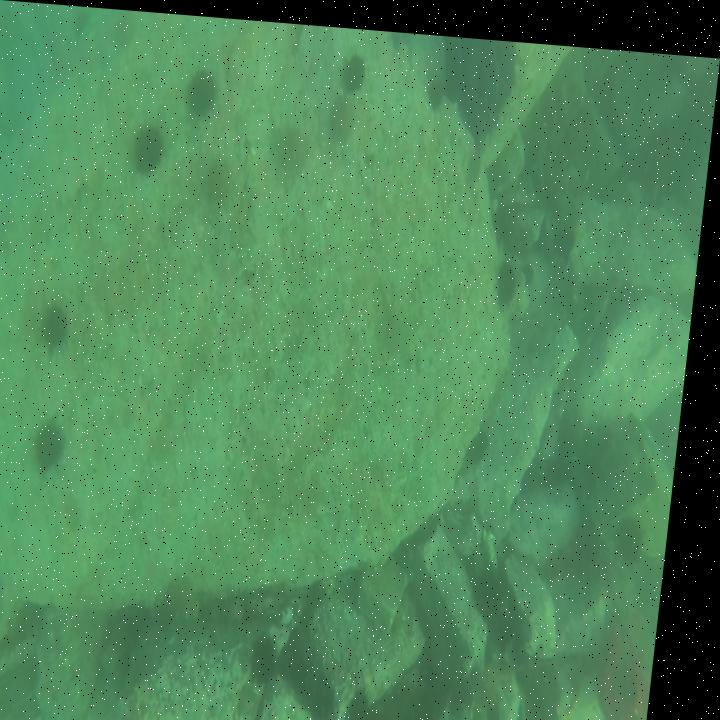echinus: (134, 116, 169, 173), (45, 298, 80, 355), (272, 111, 308, 166), (486, 554, 521, 606), (45, 420, 79, 471), (187, 65, 220, 113), (627, 501, 658, 549), (325, 669, 353, 720), (264, 632, 293, 680), (500, 245, 526, 298), (209, 150, 236, 201), (330, 86, 359, 133), (340, 46, 367, 83), (478, 418, 501, 461), (425, 67, 448, 108), (559, 215, 582, 250)
